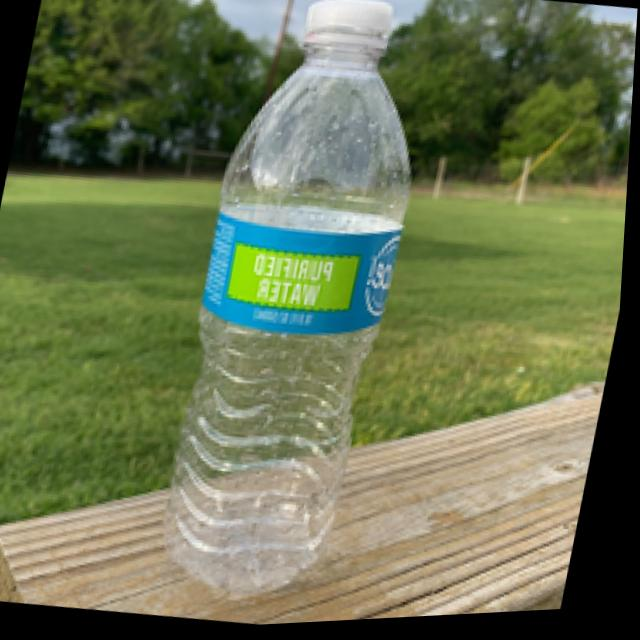plastic_water_bottles: (147, 0, 460, 613)
